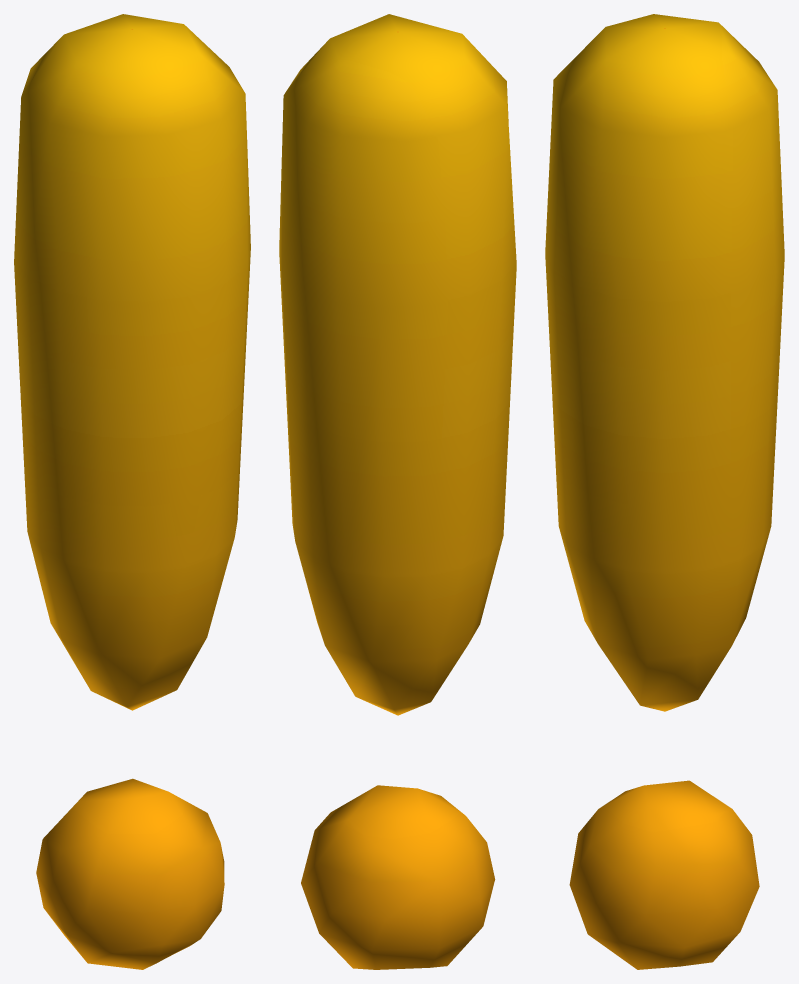
File: exclamation.glb
3 renders of one model, left to right at view 1: azimuth 30°, elevation 25°; view 2: azimuth 150°, elevation 25°; view 3: azimuth 270°, elevation 25°, orthographic.
Visible parts, largest first — view 1: Sphere.001_0; view 2: Sphere.001_0; view 3: Sphere.001_0.
Part boxes in pixels (<box>): Sphere.001_0: <box>14,14,250,969</box>; Sphere.001_0: <box>279,14,516,969</box>; Sphere.001_0: <box>545,14,784,969</box>.
Bounding box in the file's own units: 0.2005 × 0.8628 × 0.2005.
Materials: 1 (1 with a texture image).
